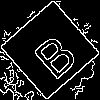B: (25, 25, 81, 82)
